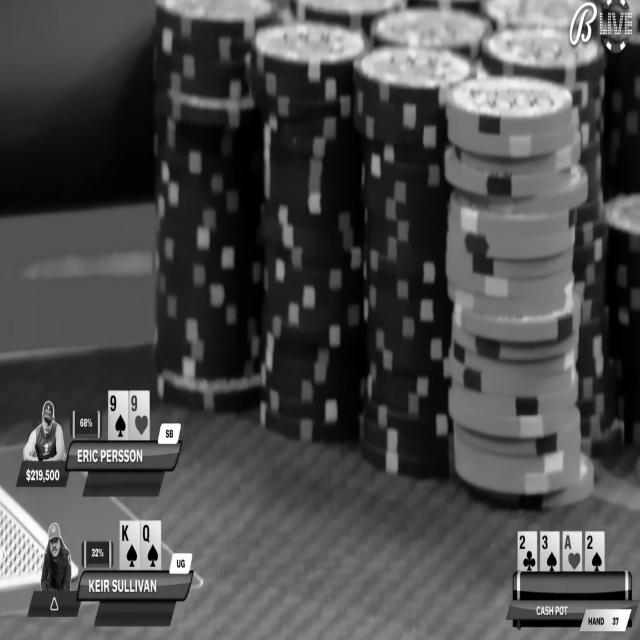2C: (518, 532, 537, 572)
2S: (586, 531, 604, 572)
3S: (542, 533, 559, 573)
9H: (130, 391, 149, 440)
9S: (109, 392, 128, 440)
AH: (564, 533, 581, 571)
KS: (121, 522, 139, 571)
QS: (142, 521, 160, 570)
